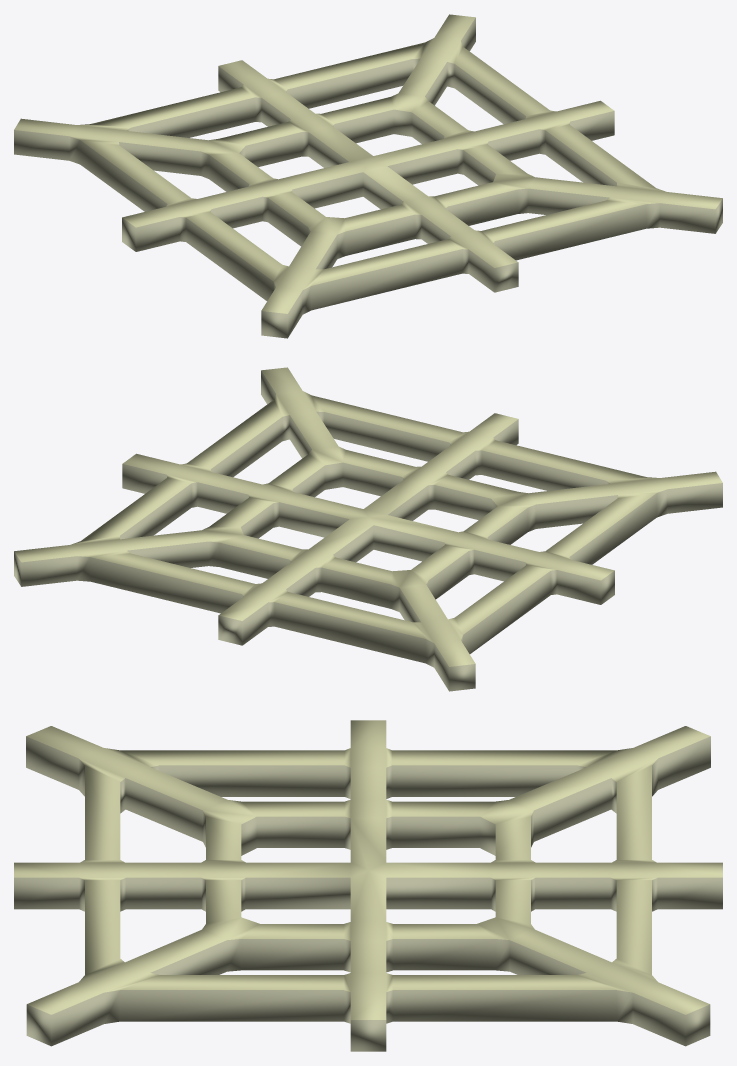
Rendered from E_SP_Kumonosu.fbx.
The picture shows the model from 3 angles, top to bottom: view 1: azimuth 30°, elevation 25°; view 2: azimuth 150°, elevation 25°; view 3: azimuth 270°, elevation 25°; orthographic projection. The views are drawn at different scales.
Visible parts, largest first — view 1: model; view 2: model; view 3: model.
Boxes of the visible parts, x1,y1,x2,y2 form: model: (14, 14, 722, 338); model: (14, 367, 722, 691); model: (14, 720, 722, 1051).
Size of the model in its own units: 2.5 by 0.1226 by 2.5.
